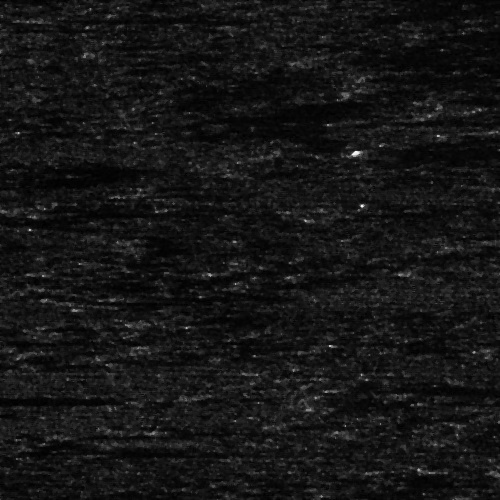object: (279, 143, 446, 158), (0, 208, 105, 219), (125, 283, 156, 310), (103, 191, 156, 196), (0, 23, 47, 28), (38, 14, 69, 19)
shadow: (141, 283, 251, 310), (363, 143, 500, 158), (43, 208, 205, 219), (0, 393, 69, 406), (53, 14, 225, 19), (11, 23, 67, 28), (130, 191, 185, 196), (0, 48, 38, 55)
